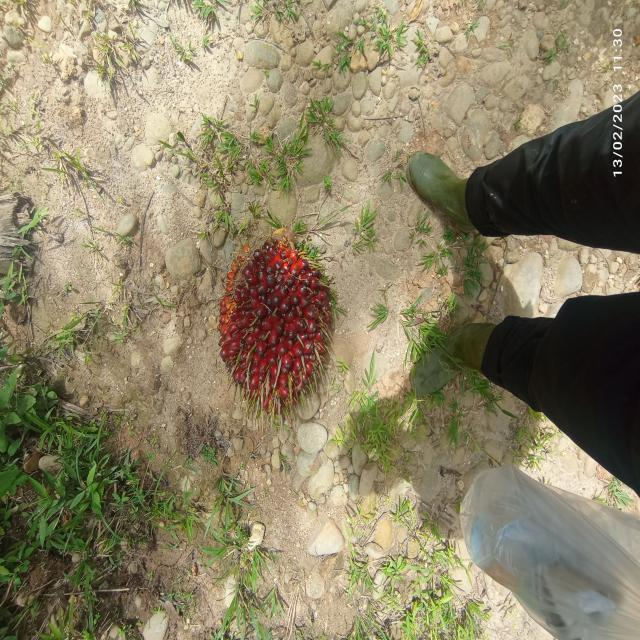fraksi 3: (191, 202, 360, 450)
